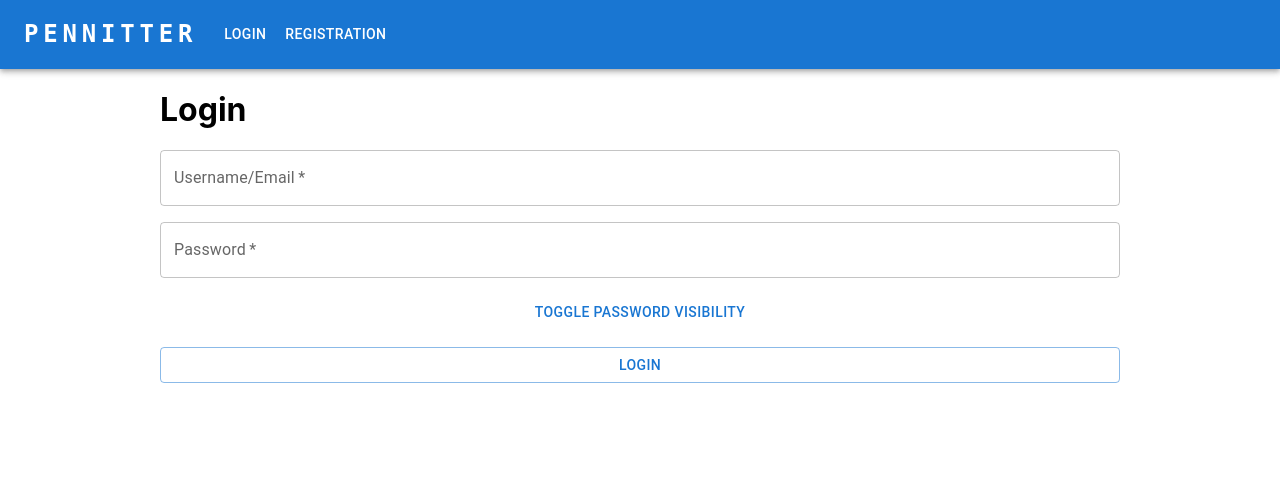
Scenario: Test Login, Follow User, and View Followed Users Posts › invalid username, email, and password format
Expected: the button "Login" below "Username/Email" is shown, [160,347,1120,384]
Type "-mike-" into the field with placeholder "username/email".
click(640, 178); type("-mike-")  # box [160,150,1120,206]
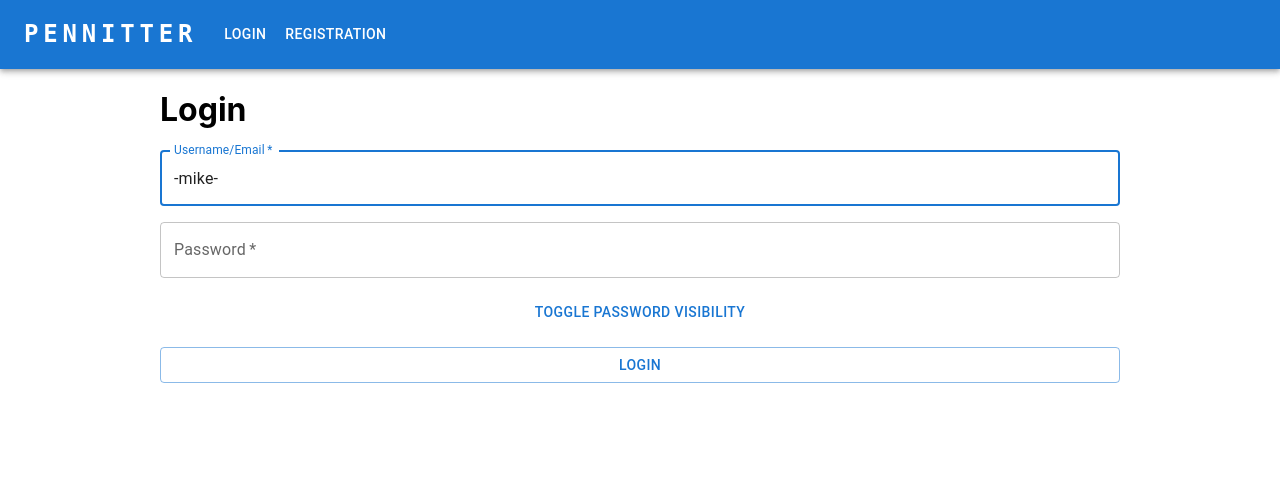
Type "weakpassword" into the password field with placeholder "password".
click(640, 250); type("weakpassword")  # box [160,222,1120,278]
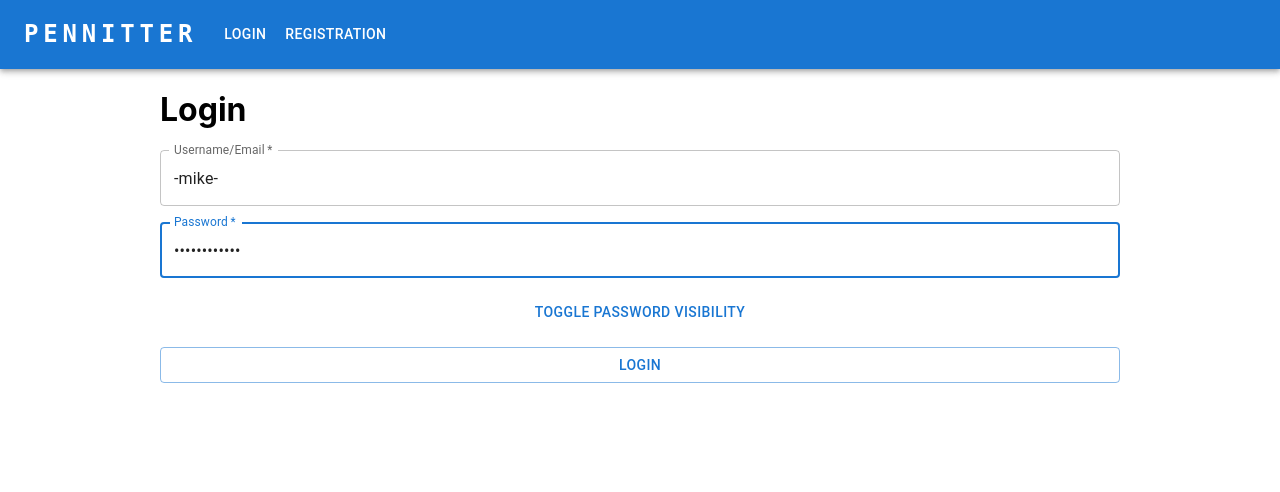
show password
Click the button "Toggle Password Visibility".
click(640, 313)  # box [160,294,1120,331]
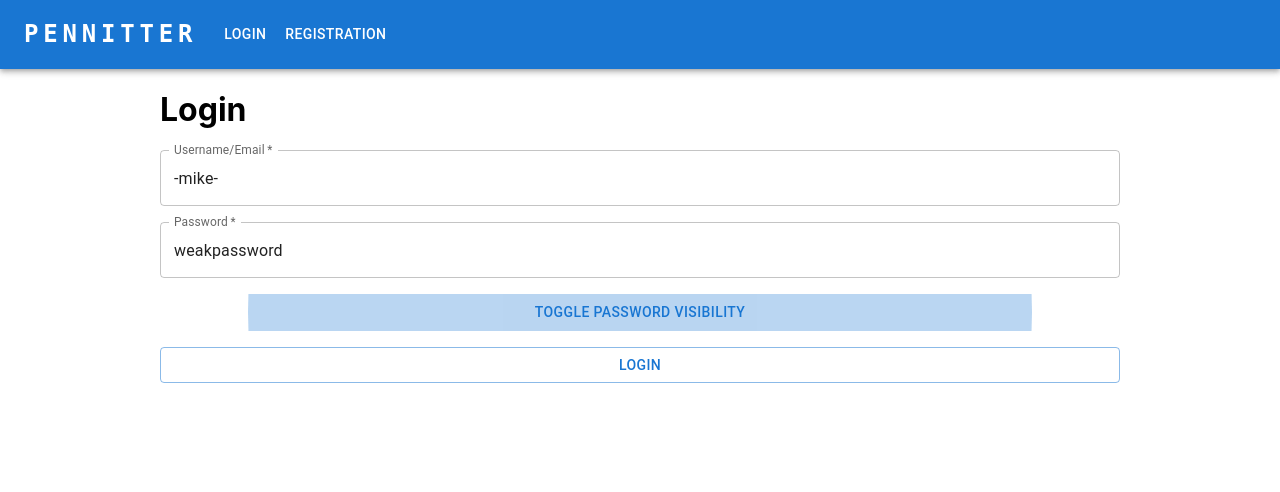
click on the login button
Click the button "Login" below "Username/Email".
click(640, 366)  # box [160,347,1120,384]
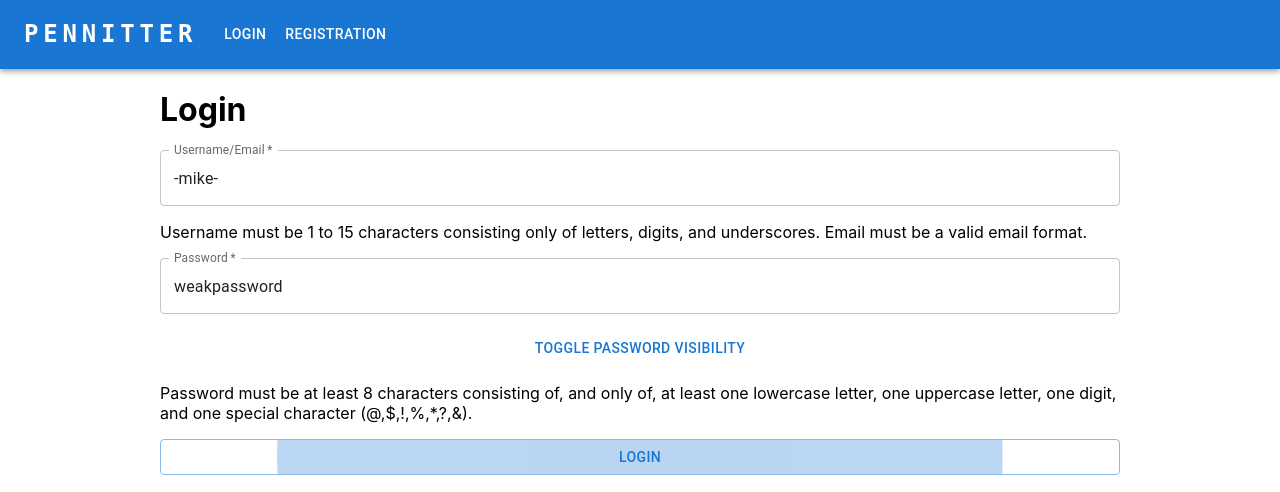
Now the text "Email must be" is shown, box [160,222,1120,242]
Now the text "Password must be" is shown, box [160,383,1120,423]
